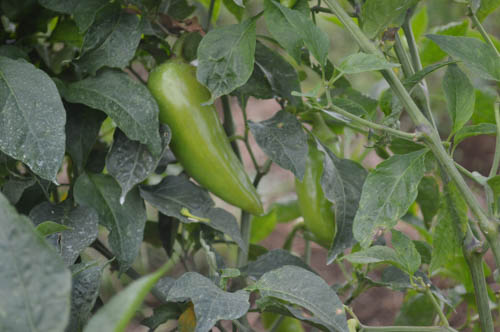ChiliPepper: (154, 63, 265, 216), (291, 161, 342, 243)
